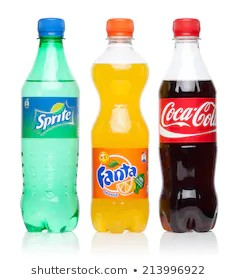coke-bottle-700ml: (159, 13, 218, 234)
